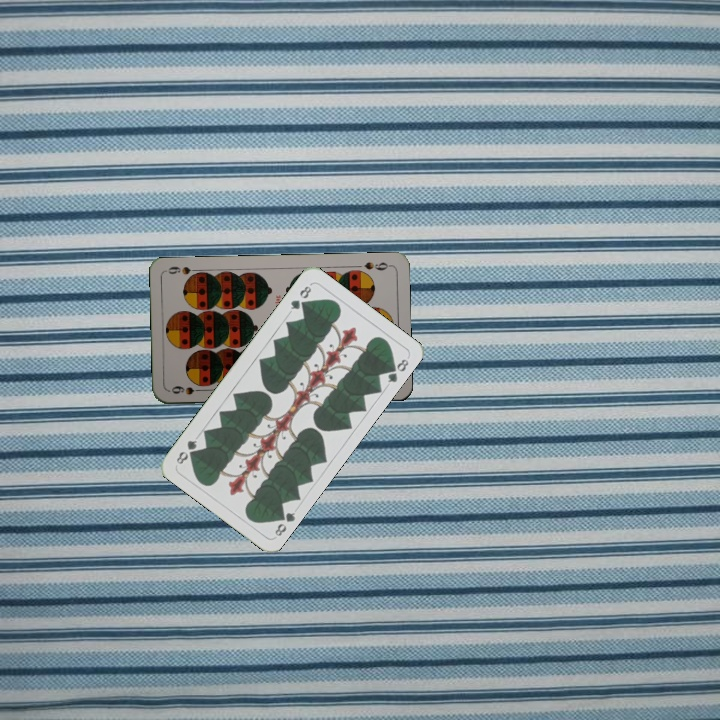G8: (271, 507, 298, 539), (286, 282, 314, 312)
S9: (168, 382, 207, 397), (360, 258, 393, 273)
